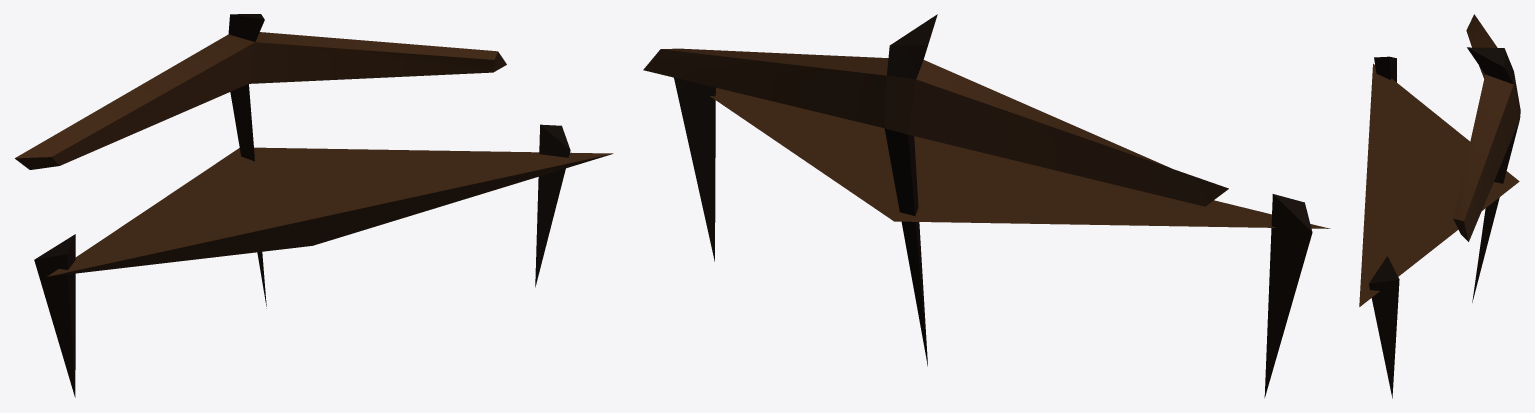
File: c_furniture_bench_wood_aa.fbx
3 views of the same model, side by side, from view 1: azimuth 30°, elevation 25°; view 2: azimuth 150°, elevation 25°; view 3: azimuth 270°, elevation 25° (orthographic). The views are drawn at different scales.
Visible parts, largest first — view 1: c_furniture_bench_wood_aa; view 2: c_furniture_bench_wood_aa; view 3: c_furniture_bench_wood_aa.
Part boxes in pixels (<box>): c_furniture_bench_wood_aa: <box>15,14,613,397</box>; c_furniture_bench_wood_aa: <box>643,14,1330,397</box>; c_furniture_bench_wood_aa: <box>1359,14,1520,398</box>.
Bounding box in the file's own units: 2.33 × 1.17 × 0.6691.
